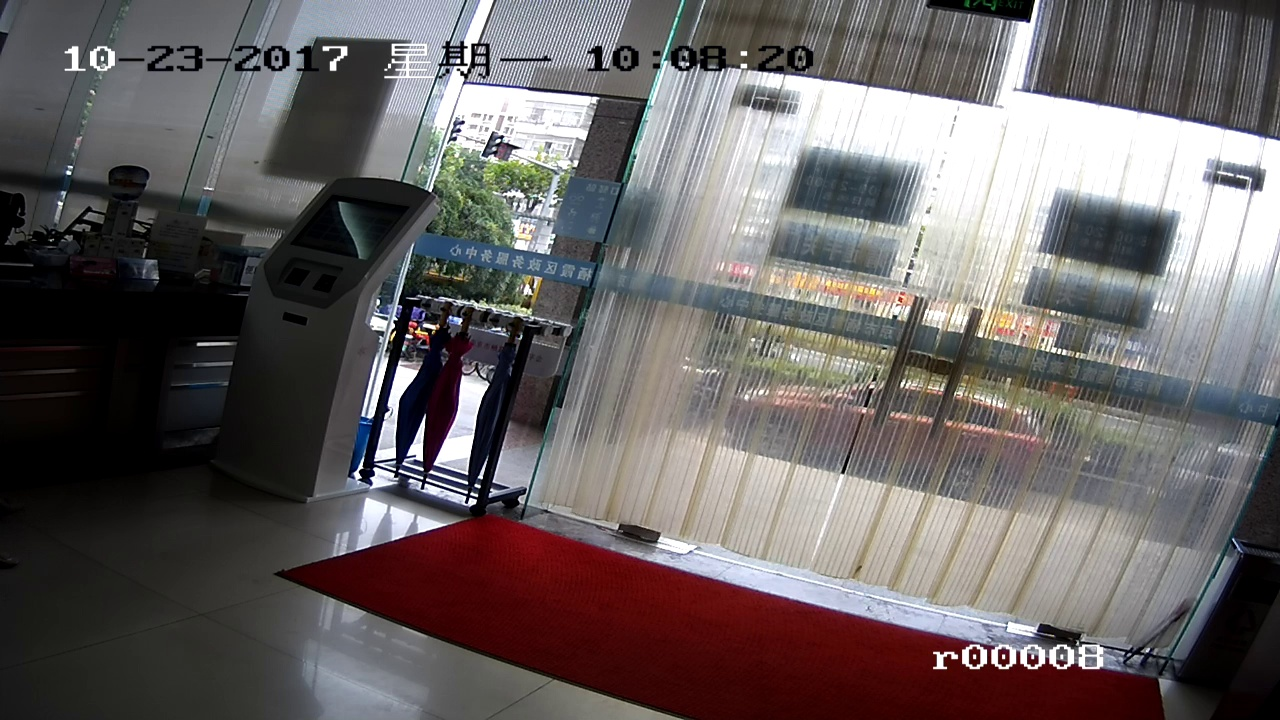monitor: (301, 180, 397, 259)
